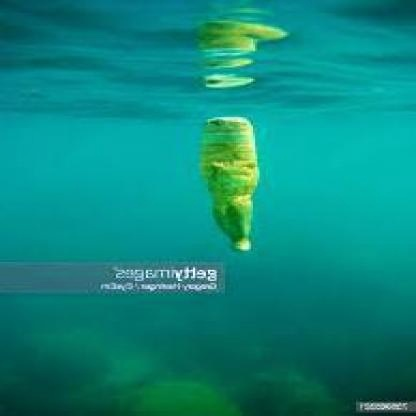pbottle: (193, 109, 272, 254)
